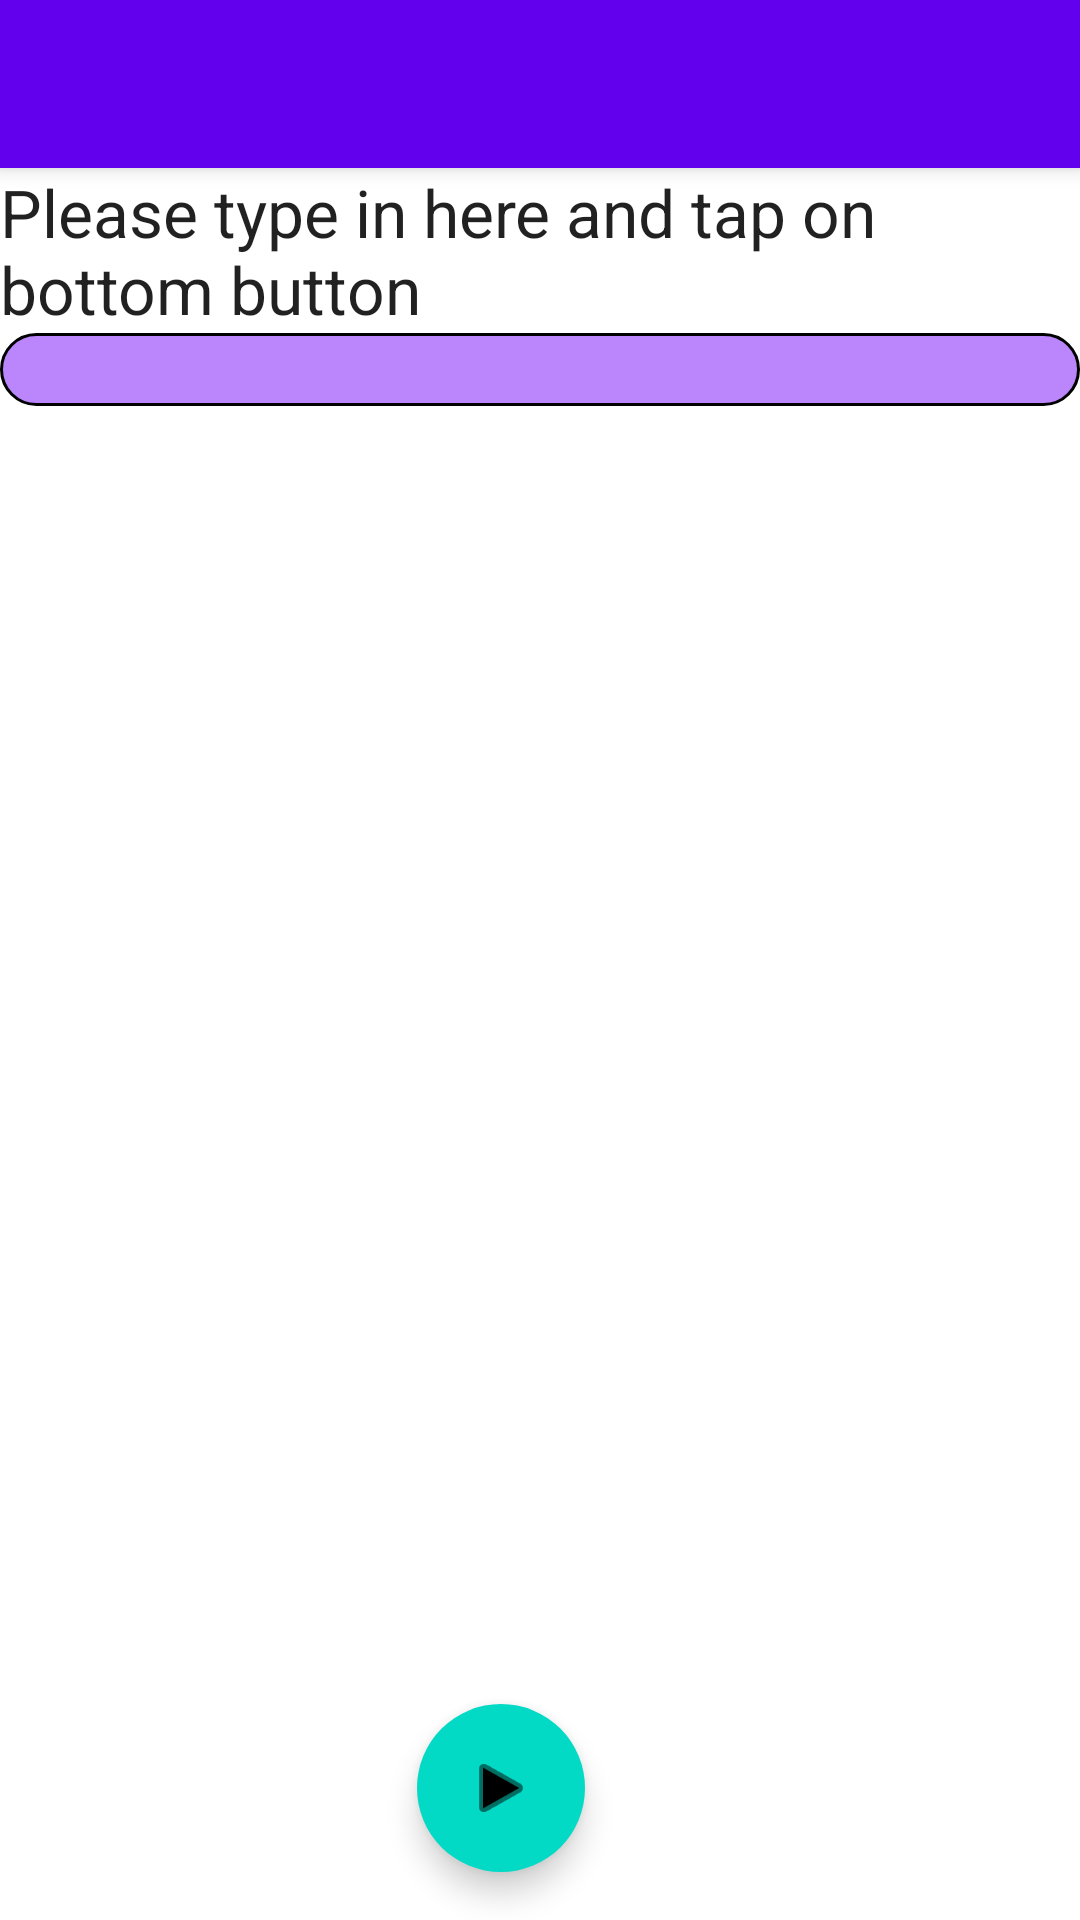

Named icons in this screenshot (1080 x 1920) and their centers, (x,y):
play: (501,1788)
